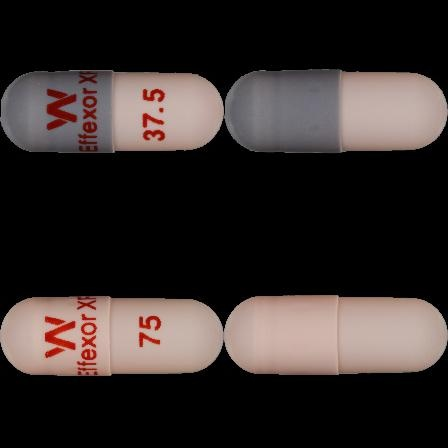21695-045: (0, 0, 224, 224)
